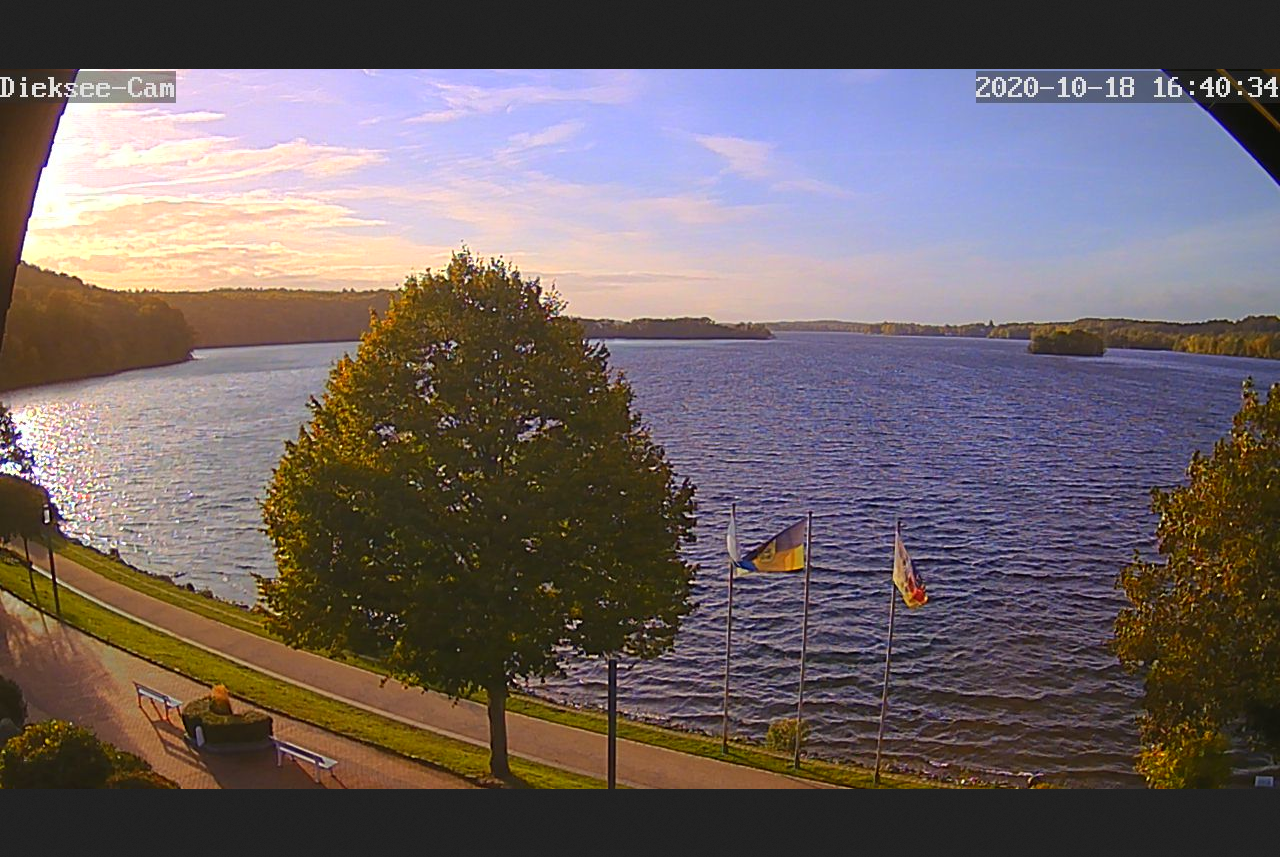maybe: (892, 533, 927, 609)
yes: (738, 518, 809, 576), (723, 511, 742, 563)
